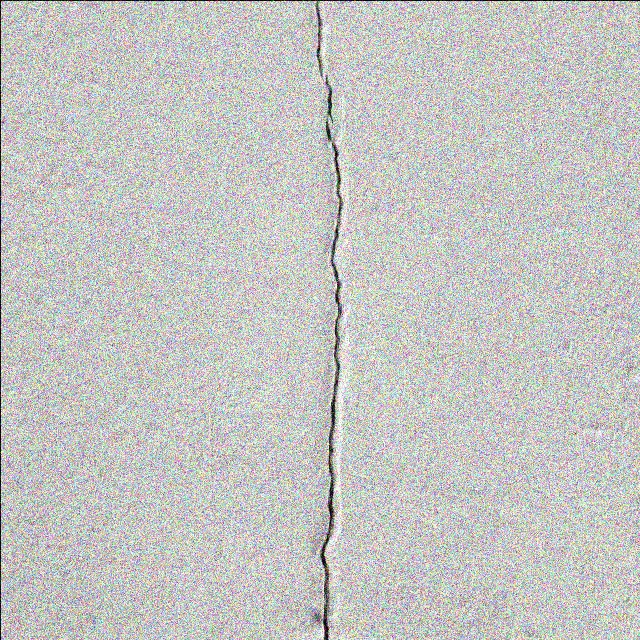SurfaceCrack: (260, 0, 396, 640)
